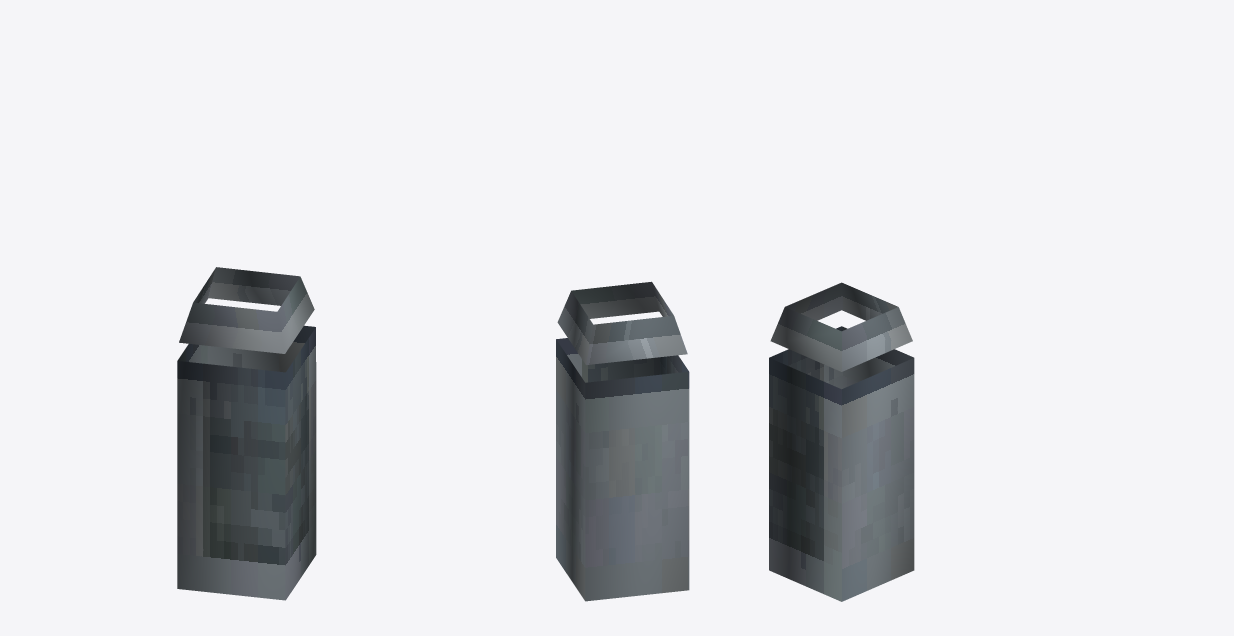
File: eqp_tool_retrofit_kit_l3.fbx
The picture shows the model from 3 angles, left to right: view 1: azimuth 30°, elevation 25°; view 2: azimuth 150°, elevation 25°; view 3: azimuth 270°, elevation 25°; orthographic projection. The views are drawn at different scales.
Visible parts, largest first — view 1: mesh_node; view 2: mesh_node; view 3: mesh_node.
Part boxes in pixels (left/top/right/bottom): mesh_node: left=177, top=267, right=316, bottom=600; mesh_node: left=556, top=281, right=689, bottom=601; mesh_node: left=769, top=282, right=914, bottom=601.
Bounding box in the file's own units: 0.1555 × 0.4009 × 0.31.
